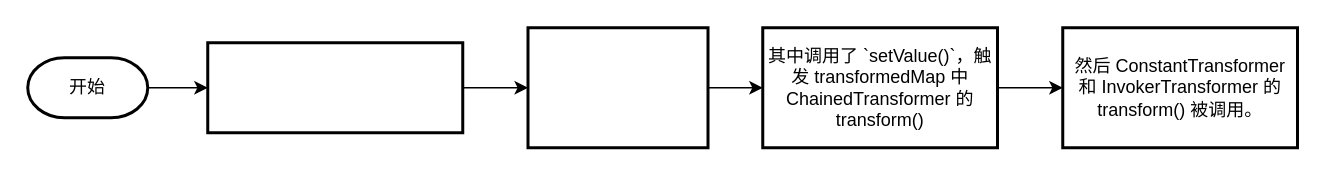
The diagram is 1325 pixels wide and 174 high, and some of its shapes have lost their labels. The centre of each missing label's shape, as x and y in pixels:
"AnnotationInvocationHandler 反序列化，触发 `readObject()`" belongs at point (335, 87).
"transformedMap 的第一个参数 Map 的 key，与 AIH 内注解的 key 有相同的地方，从而进入 if" belongs at point (617, 87).
